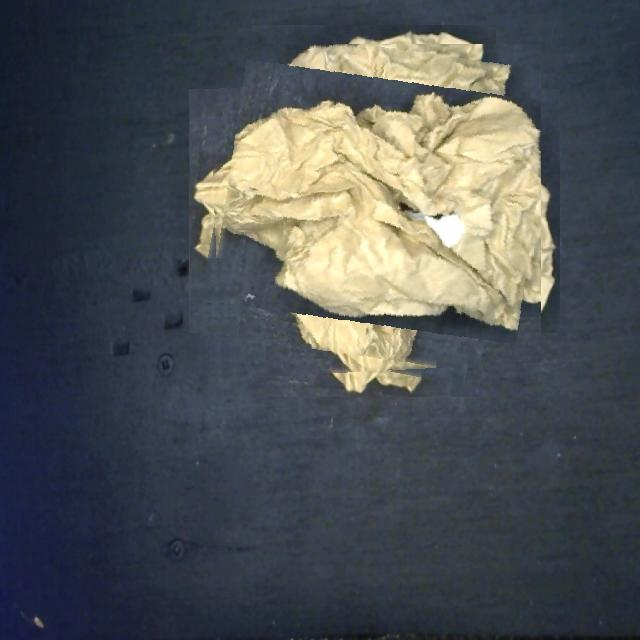biodegradable: (207, 44, 541, 379)
